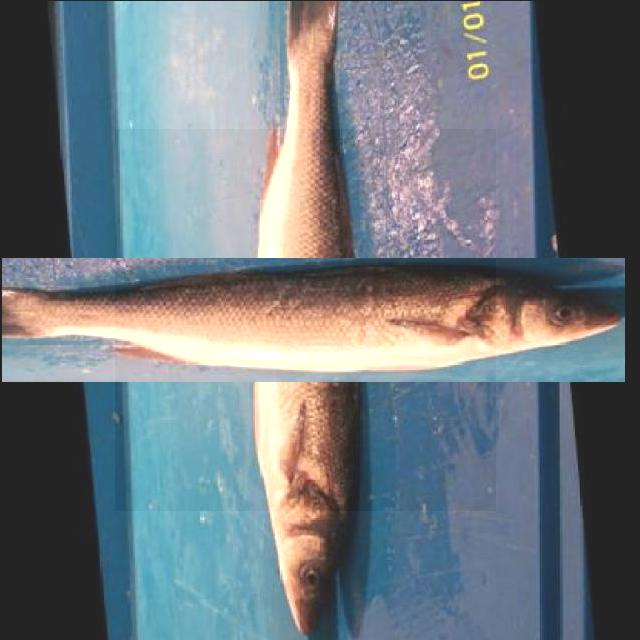Healthy Fish: (114, 128, 495, 510)
